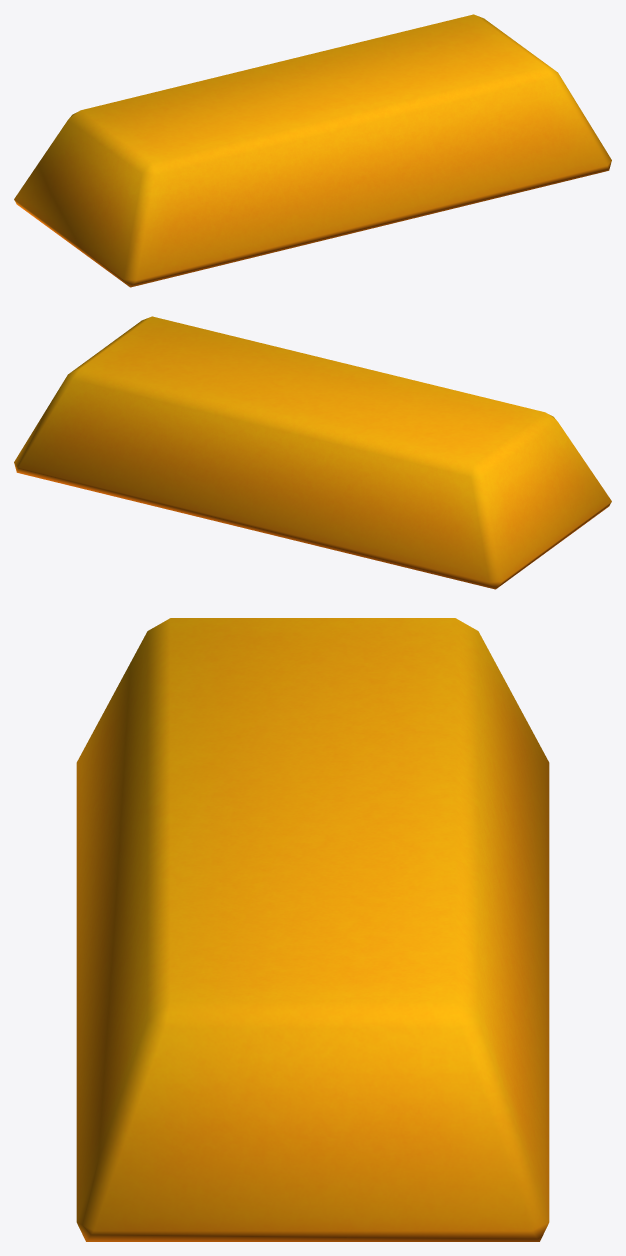
Rendered from GoldBar.FBX.
3 renders of one model, top to bottom at view 1: azimuth 30°, elevation 25°; view 2: azimuth 150°, elevation 25°; view 3: azimuth 270°, elevation 25°, orthographic. The views are drawn at different scales.
Parts seen in each view (by area): view 1: GoldBar; view 2: GoldBar; view 3: GoldBar.
Part boxes in pixels (bbox=[...]): GoldBar: bbox=[14, 14, 611, 287]; GoldBar: bbox=[14, 316, 611, 589]; GoldBar: bbox=[76, 618, 549, 1241].
Size of the model in its own units: 170 by 33.05 by 71.39.
Materials: 1 (1 with a texture image).
